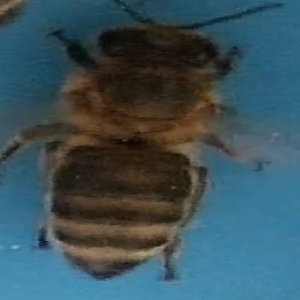bee: (38, 4, 298, 284)
